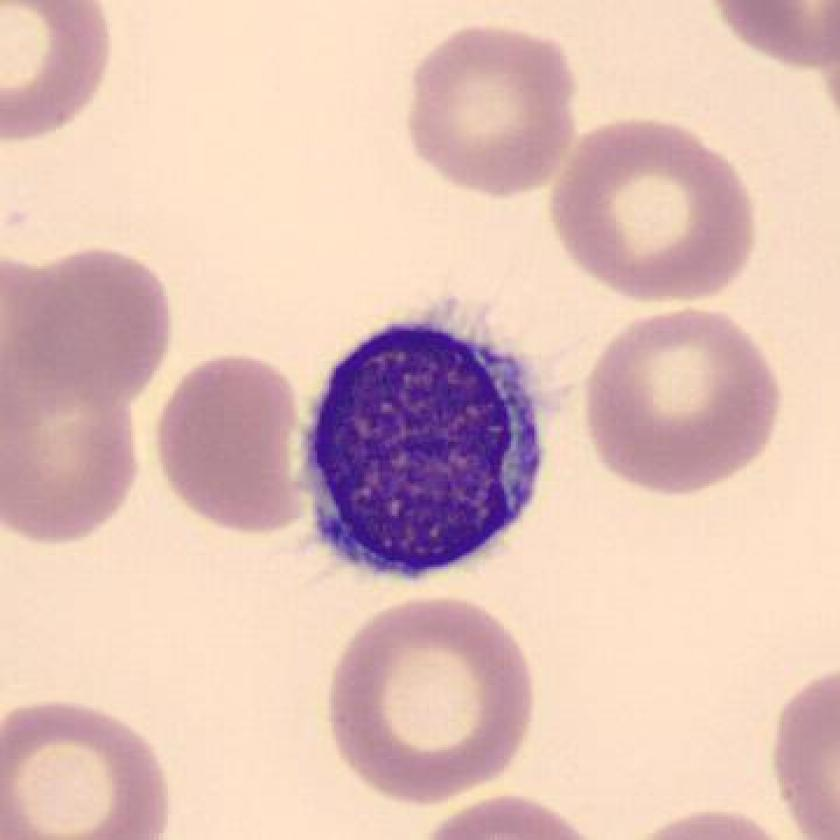lymphocyte: (274, 304, 568, 600)
